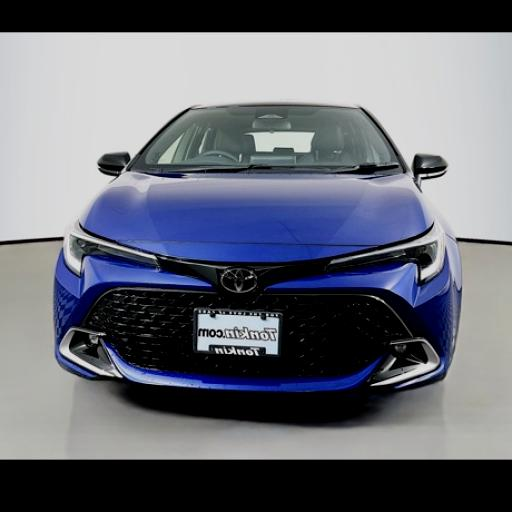hatchback: (55, 100, 461, 391)
